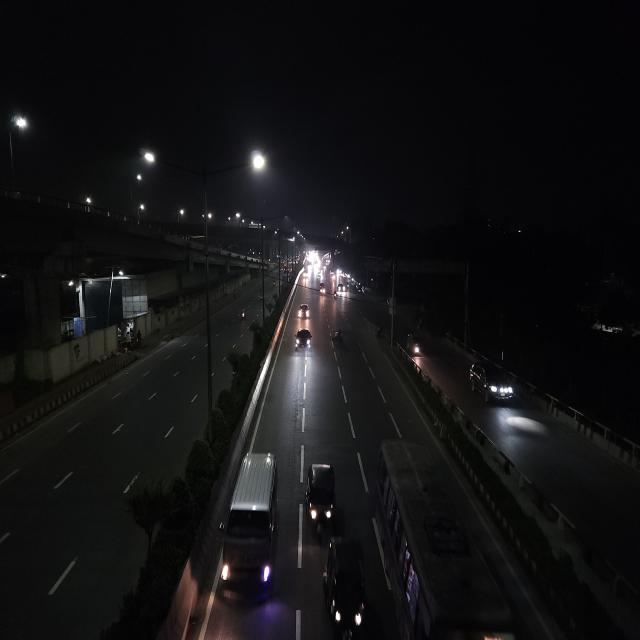bus: (376, 440, 522, 640)
car: (218, 448, 282, 606), (466, 357, 516, 410), (292, 326, 314, 353), (296, 301, 312, 322)
cng: (321, 530, 368, 640), (303, 459, 339, 540), (406, 332, 424, 361)
motorcycle: (238, 306, 248, 324)
rickshaw: (332, 334, 344, 350)
